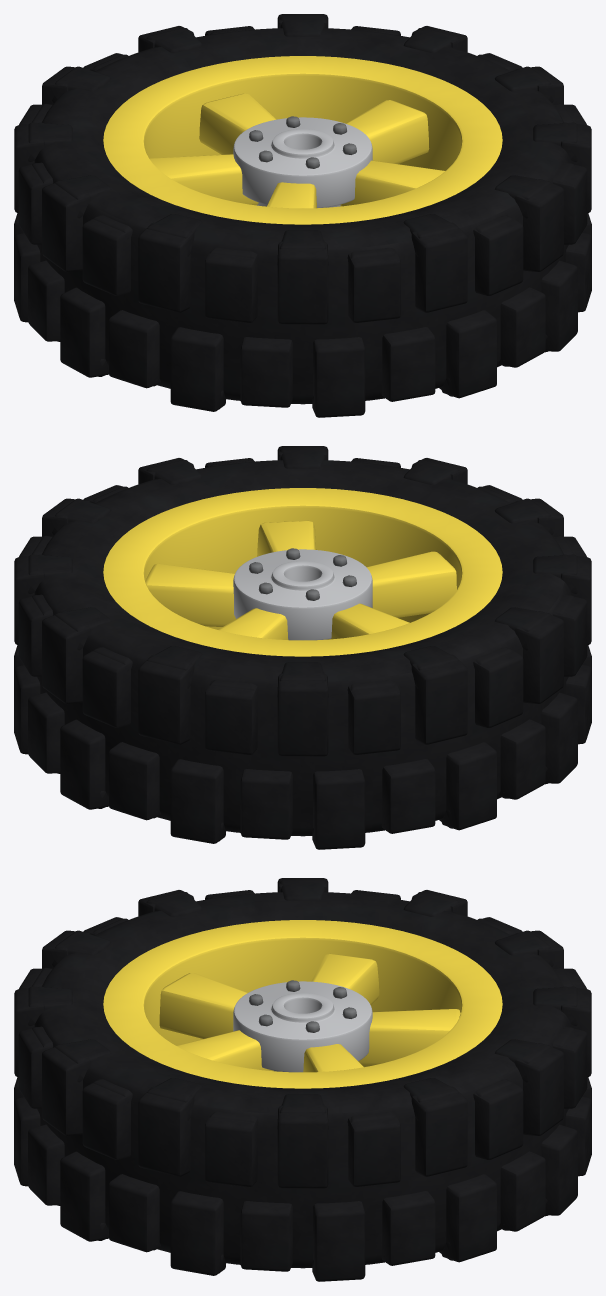
The model's file is wheel.glb.
3 views of the same model, one above another, from view 1: azimuth 30°, elevation 25°; view 2: azimuth 150°, elevation 25°; view 3: azimuth 270°, elevation 25° (orthographic).
Parts seen in each view (by area): view 1: SM_Wheel_Standard; view 2: SM_Wheel_Standard; view 3: SM_Wheel_Standard.
Boxes of the visible parts, x1,y1,x2,y2 form: SM_Wheel_Standard: (14, 14, 591, 417); SM_Wheel_Standard: (14, 446, 591, 849); SM_Wheel_Standard: (14, 878, 591, 1281).
Size of the model in its own units: 0.748 by 0.246 by 0.748.
Materials: 5 (1 with a texture image).
